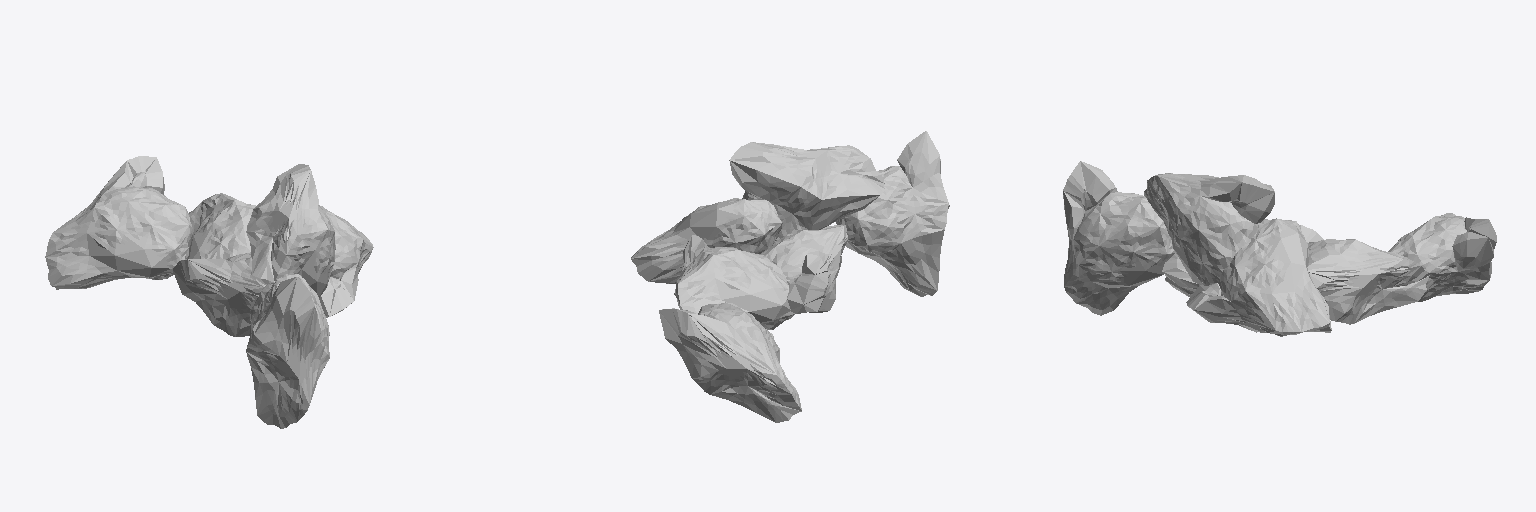
The model's file is ROCKS_terrain.obj.
3 renders of one model, left to right at view 1: azimuth 30°, elevation 25°; view 2: azimuth 150°, elevation 25°; view 3: azimuth 270°, elevation 25°, orthographic.
Visible parts, largest first — view 1: Icosphere.003; view 2: Icosphere.003; view 3: Icosphere.003.
Boxes of the visible parts, x1=… form: Icosphere.003: x1=45, y1=156, x2=373, y2=428; Icosphere.003: x1=631, y1=131, x2=949, y2=422; Icosphere.003: x1=1063, y1=161, x2=1496, y2=336.
Bounding box in the file's own units: 248 × 181 × 388.